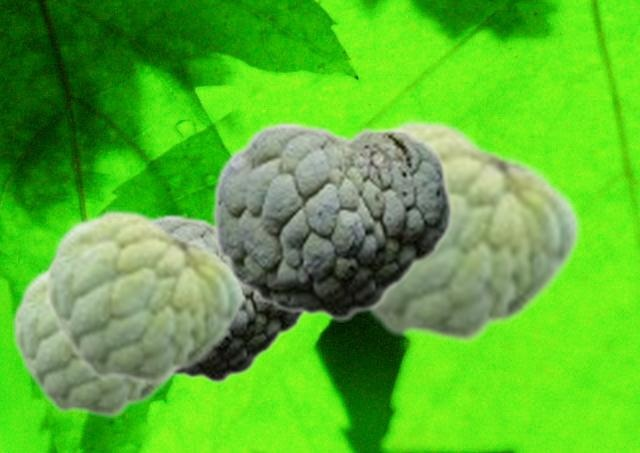atis: (362, 116, 580, 345), (211, 120, 453, 321), (42, 207, 244, 386), (10, 263, 182, 419), (151, 213, 307, 383)
